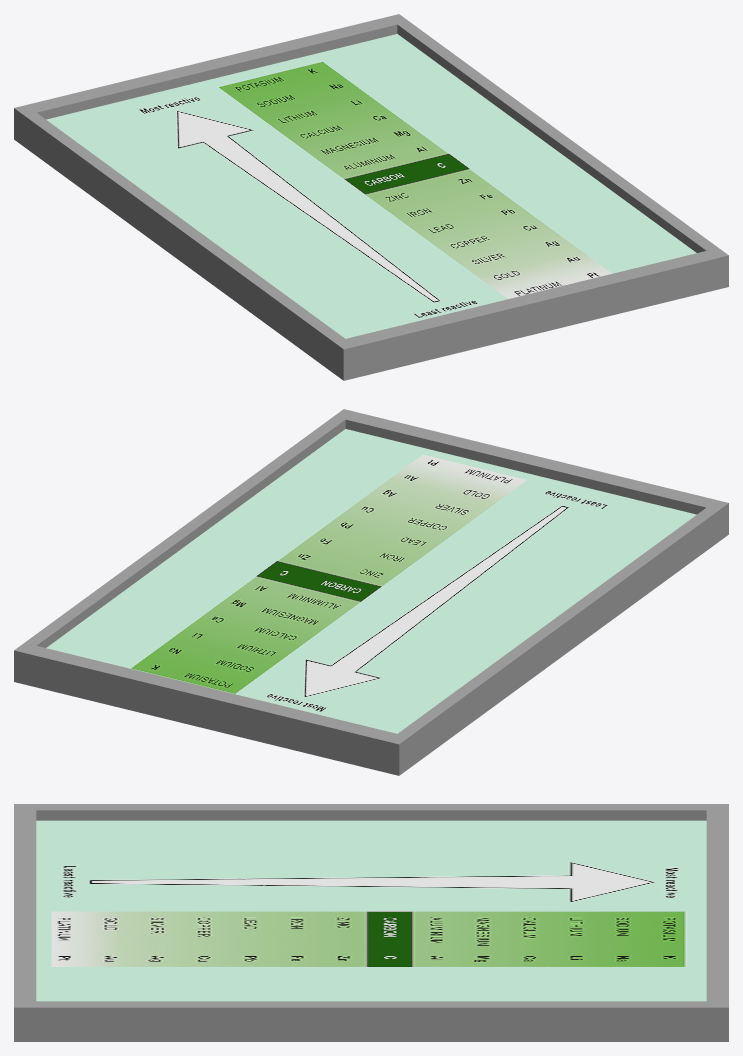
The model's file is METAL CHART.fbx.
The picture shows the model from 3 angles, top to bottom: view 1: azimuth 30°, elevation 25°; view 2: azimuth 150°, elevation 25°; view 3: azimuth 270°, elevation 25°; orthographic projection. The views are drawn at different scales.
Parts seen in each view (by area): view 1: MATEL_CHART; view 2: MATEL_CHART; view 3: MATEL_CHART.
Part boxes in pixels (x1=…): MATEL_CHART: x1=14, y1=14, x2=728, y2=380; MATEL_CHART: x1=14, y1=409, x2=728, y2=775; MATEL_CHART: x1=14, y1=804, x2=728, y2=1041.
Size of the model in its own units: 2.42 by 0.189 by 3.58.
2 materials, 1 textured.
